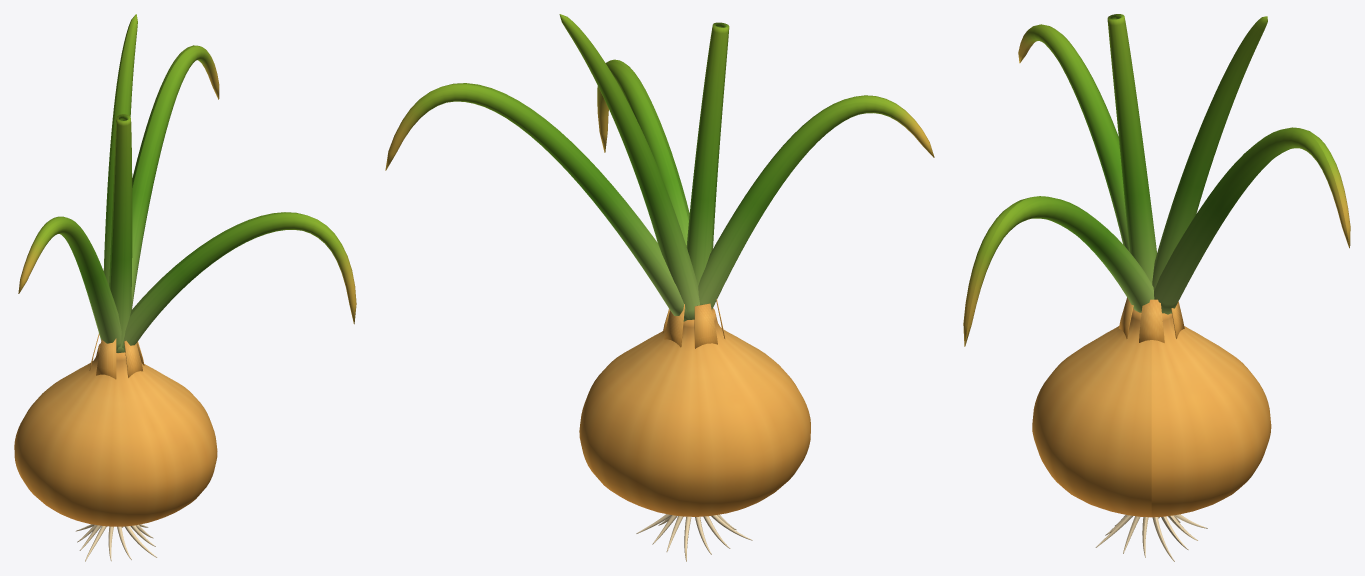
Rendered from NP_Onion_Ready.fbx.
The picture shows the model from 3 angles, left to right: view 1: azimuth 30°, elevation 25°; view 2: azimuth 150°, elevation 25°; view 3: azimuth 270°, elevation 25°; orthographic projection. The views are drawn at different scales.
Visible parts, largest first — view 1: NP_Onion_Ready; view 2: NP_Onion_Ready; view 3: NP_Onion_Ready.
Boxes of the visible parts, box(x1,y1,x2,y2) form: NP_Onion_Ready: box(14, 14, 356, 561); NP_Onion_Ready: box(385, 14, 934, 561); NP_Onion_Ready: box(963, 14, 1350, 561).
Size of the model in its own units: 84.14 by 113 by 70.42.
